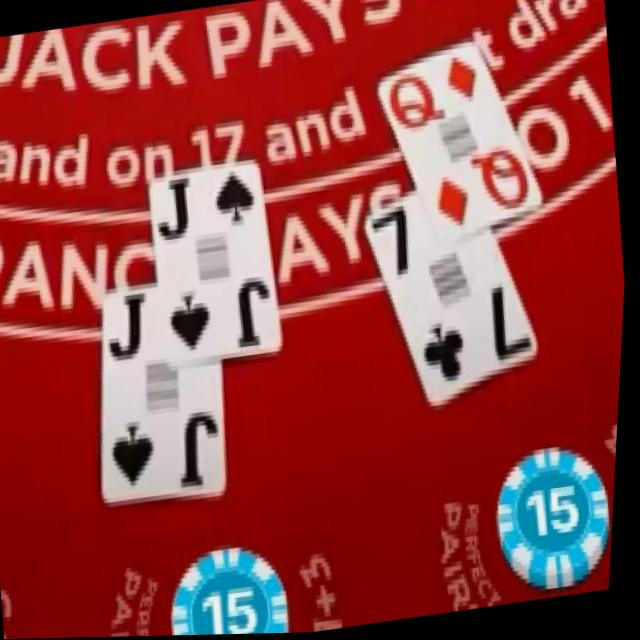Card-7: (367, 188, 542, 407)
Card-J: (152, 161, 284, 361), (107, 285, 229, 501)
Card-Q: (377, 39, 543, 244)
